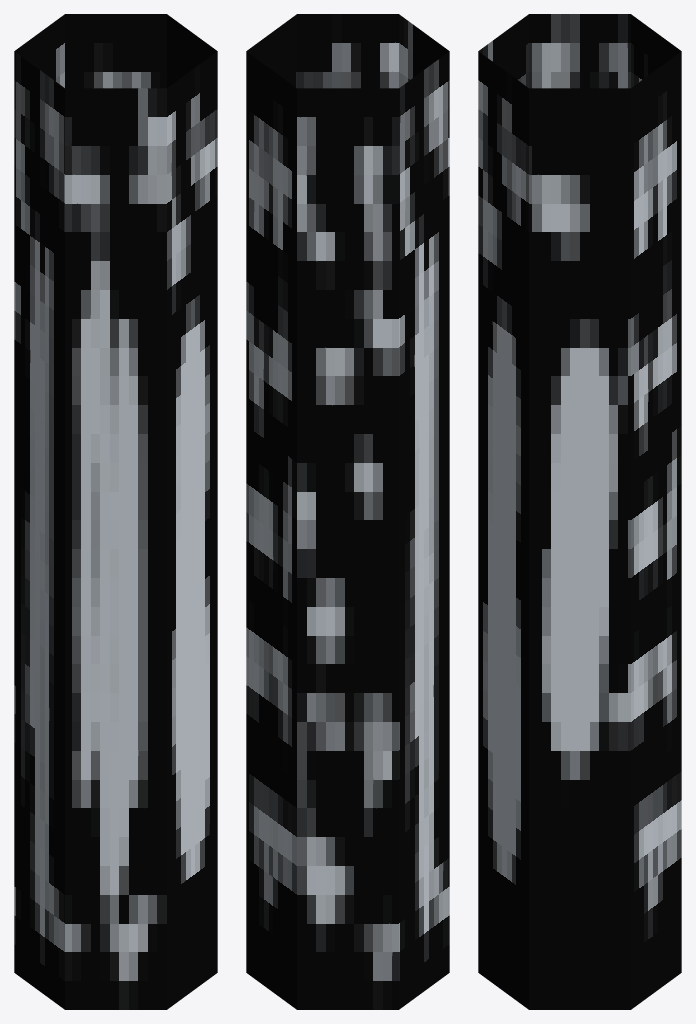
The model's file is tower.glb.
3 views of the same model, side by side, from view 1: azimuth 30°, elevation 25°; view 2: azimuth 150°, elevation 25°; view 3: azimuth 270°, elevation 25° (orthographic).
Parts seen in each view (by area): view 1: Cylinder; view 2: Cylinder; view 3: Cylinder.
Part boxes in pixels (x1=…): Cylinder: x1=14, y1=14, x2=217, y2=1009; Cylinder: x1=246, y1=14, x2=449, y2=1009; Cylinder: x1=478, y1=14, x2=681, y2=1009.
Bounding box in the file's own units: 17.32 × 100 × 20.
1 material, 1 textured.
